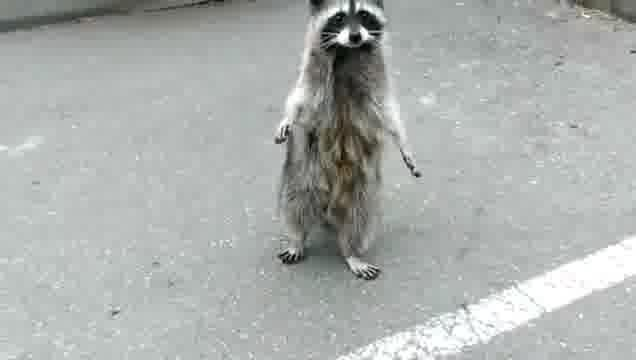raccoon: (273, 0, 426, 280)
